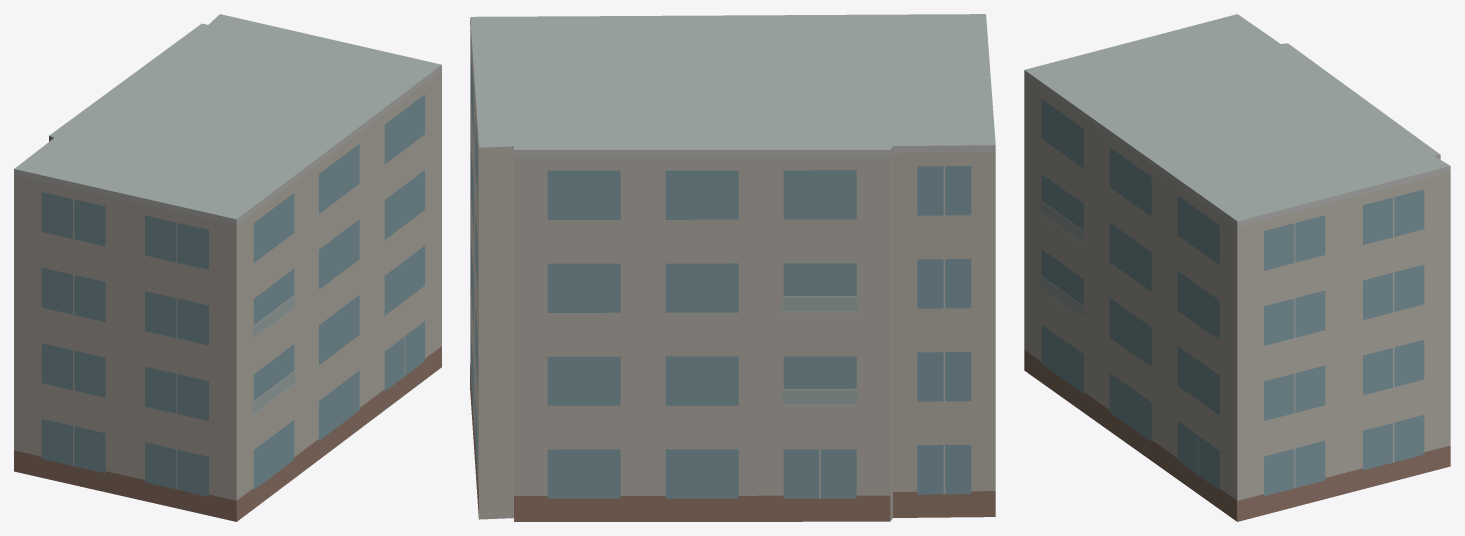
Rendered from survey-upis-33020086.glb.
The picture shows the model from 3 angles, left to right: view 1: azimuth 30°, elevation 25°; view 2: azimuth 150°, elevation 25°; view 3: azimuth 270°, elevation 25°; orthographic projection. The views are drawn at different scales.
Visible parts, largest first — view 1: survey-upis-33020086.tmp; view 2: survey-upis-33020086.tmp; view 3: survey-upis-33020086.tmp.
Boxes of the visible parts, x1,y1,x2,y2 form: survey-upis-33020086.tmp: (14,14,441,521); survey-upis-33020086.tmp: (470,14,995,521); survey-upis-33020086.tmp: (1024,14,1450,521).
Bounding box in the file's own units: 18.95 × 12.8 × 16.46.
